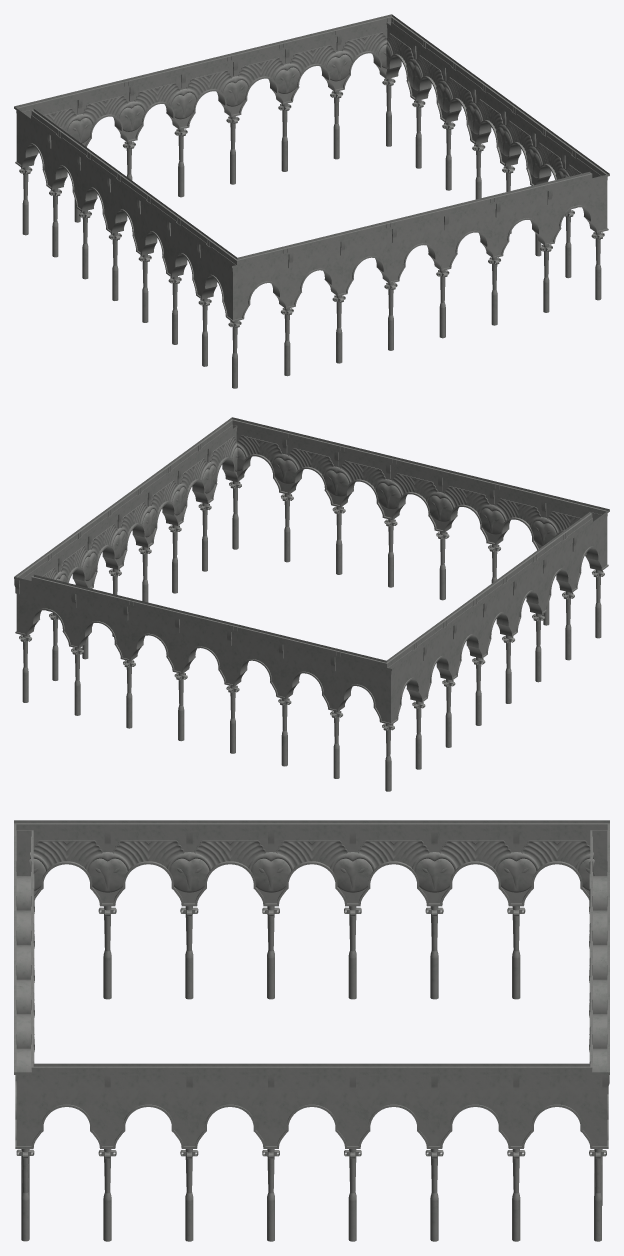
Rendered from Center_Pillars.FBX.
3 views of the same model, one above another, from view 1: azimuth 30°, elevation 25°; view 2: azimuth 150°, elevation 25°; view 3: azimuth 270°, elevation 25° (orthographic). The views are drawn at different scales.
Visible parts, largest first — view 1: Center_Pillars_LOD0; view 2: Center_Pillars_LOD0; view 3: Center_Pillars_LOD0.
Boxes of the visible parts, bbox=[...] form: Center_Pillars_LOD0: bbox=[14, 14, 609, 388]; Center_Pillars_LOD0: bbox=[14, 417, 609, 791]; Center_Pillars_LOD0: bbox=[14, 820, 609, 1241].
Size of what is drawn, in the model's own units: 1260 by 403 by 1260.
